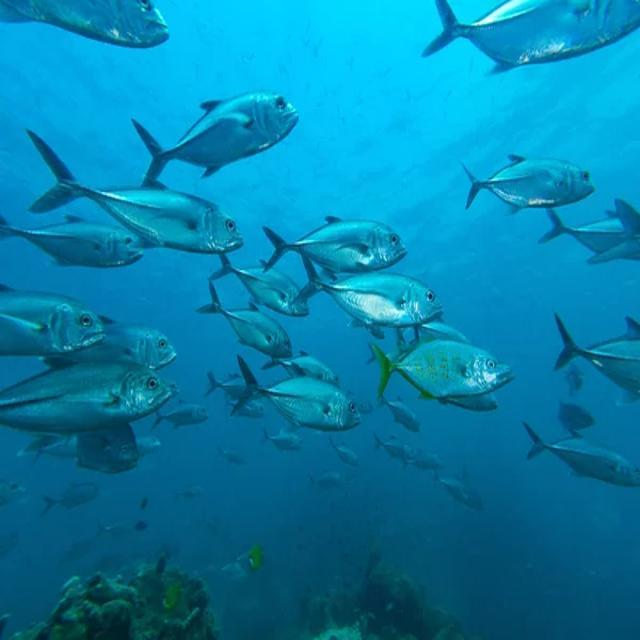fish: (28, 126, 245, 253), (424, 0, 640, 76), (135, 92, 299, 187), (290, 251, 447, 330), (0, 366, 172, 432), (240, 356, 363, 430), (261, 210, 410, 270), (374, 340, 517, 402), (0, 0, 173, 49), (461, 152, 598, 209), (0, 282, 104, 357), (198, 276, 294, 357), (524, 421, 640, 488), (2, 213, 145, 267), (41, 316, 177, 371), (557, 310, 640, 400), (213, 249, 308, 320), (24, 427, 161, 469), (541, 205, 640, 257), (74, 415, 141, 476), (586, 199, 640, 267), (261, 344, 338, 388), (45, 477, 100, 521), (433, 466, 483, 511), (375, 394, 422, 435), (151, 401, 209, 432), (253, 426, 302, 454), (207, 370, 249, 400), (557, 399, 595, 432), (308, 466, 347, 494), (329, 434, 359, 468), (562, 363, 588, 402), (419, 322, 472, 341), (377, 435, 411, 464), (160, 580, 189, 613), (99, 519, 136, 543), (169, 480, 206, 503), (0, 479, 27, 506), (414, 445, 442, 471), (218, 446, 248, 466), (247, 543, 265, 574)
